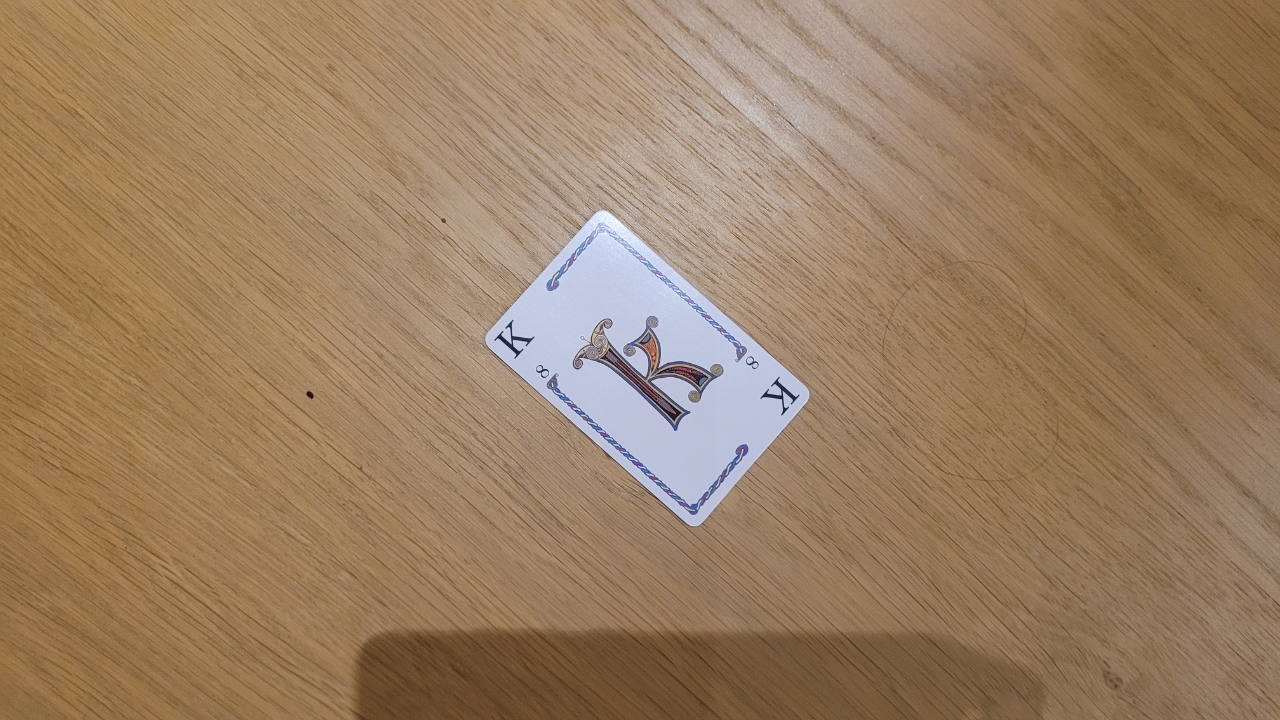quiddler_card: (466, 186, 820, 539)
